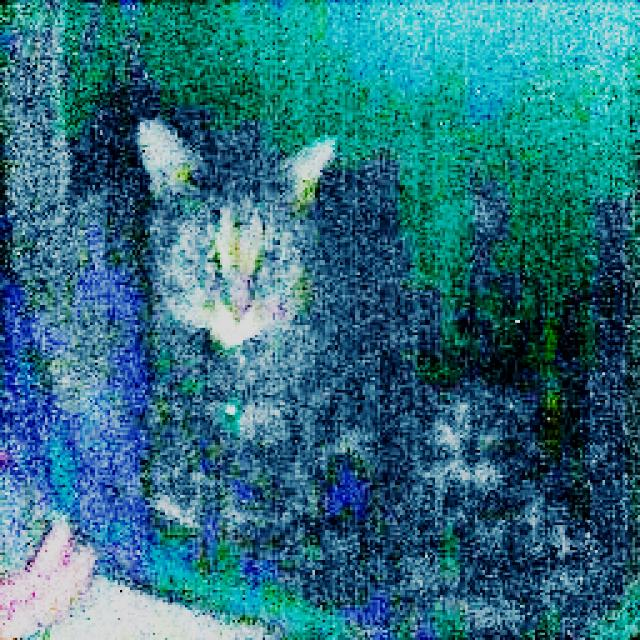cat: (86, 87, 604, 624)
